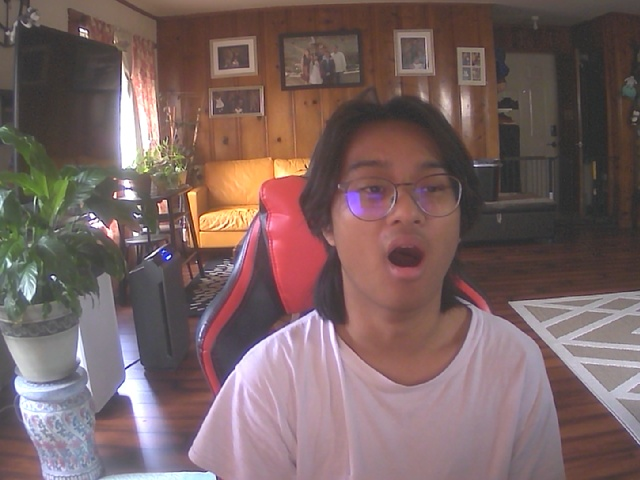fear: (323, 102, 474, 311)
